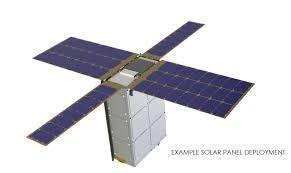body: (103, 53, 168, 168)
solar: (126, 59, 258, 122), (24, 79, 125, 149), (30, 34, 141, 83), (140, 19, 209, 63)
